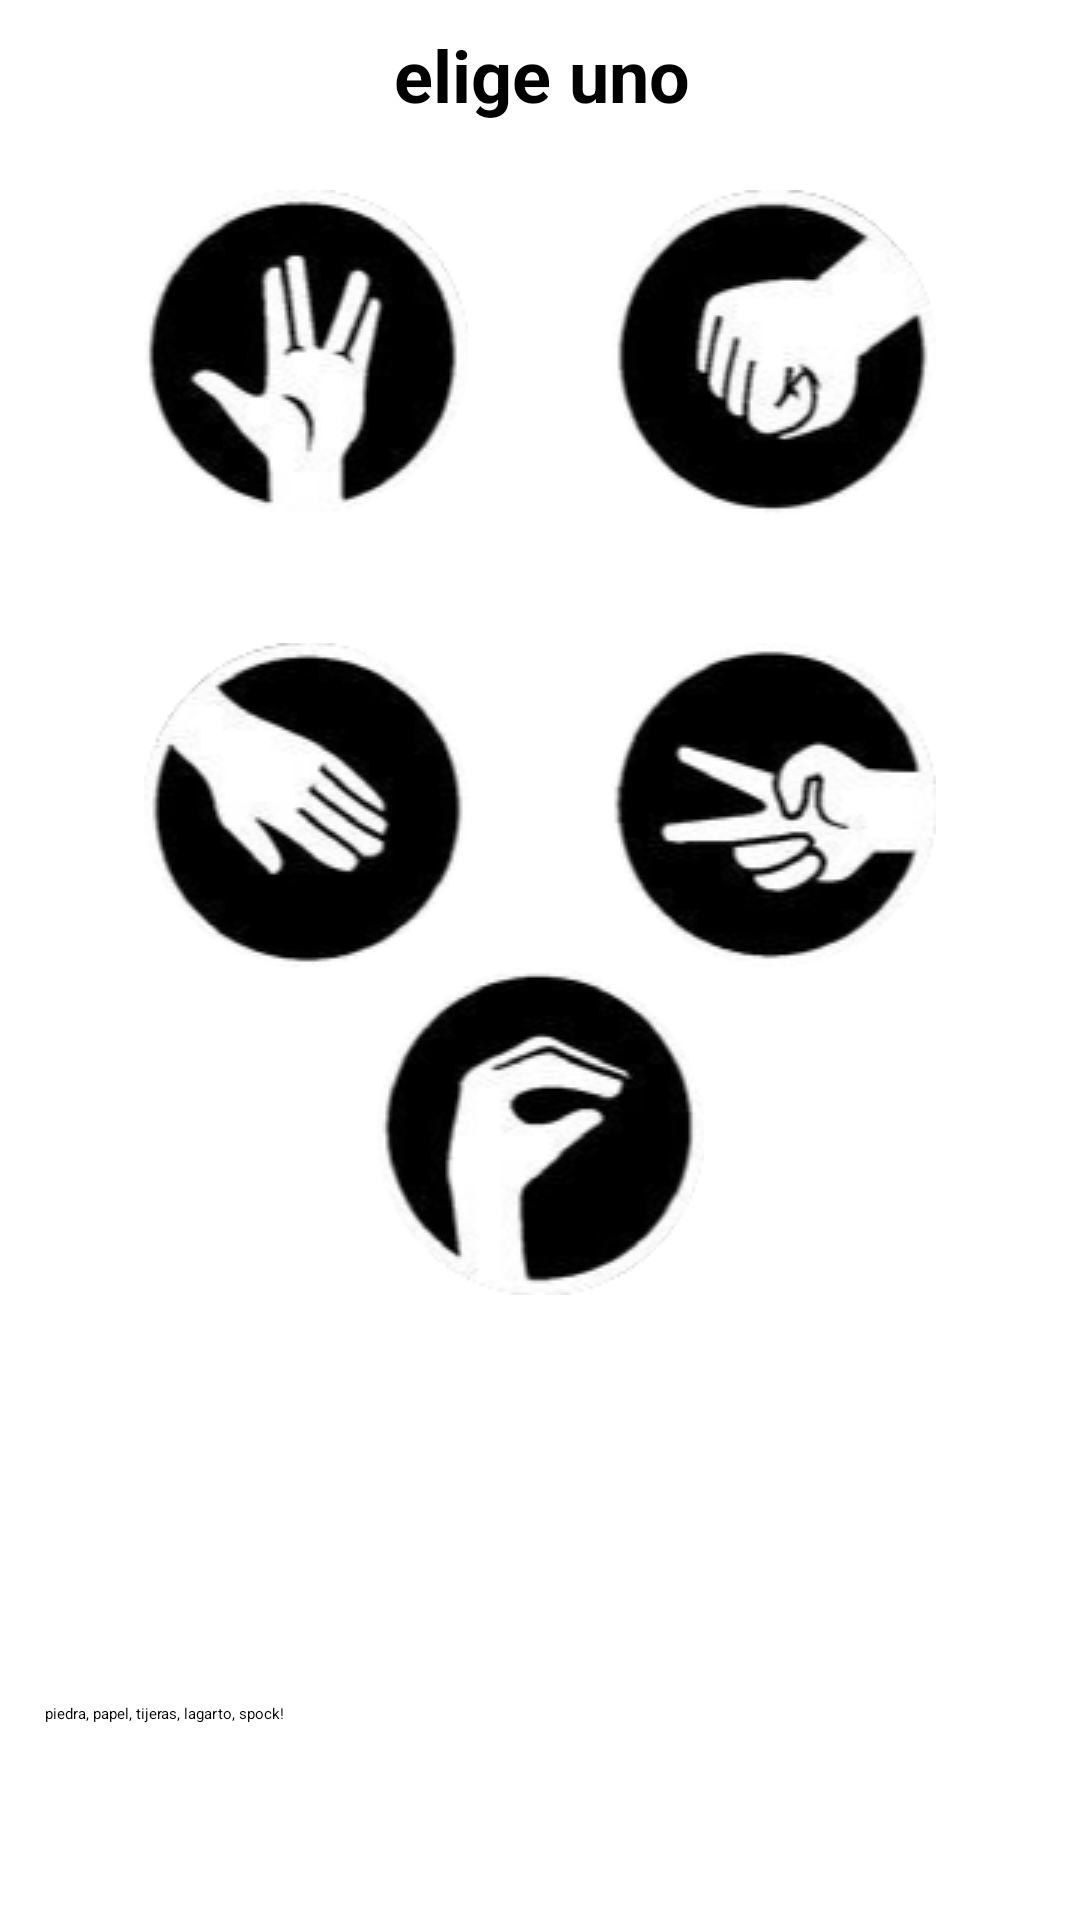

Locate icon controls on the screen. Image size 1080*1920, boxes as (x1, y1, x2, y2).
lizard: (384, 974, 693, 1283)
paper: (153, 643, 462, 962)
rock: (617, 190, 927, 509)
scissors: (614, 651, 936, 959)
spock: (149, 194, 458, 504)
